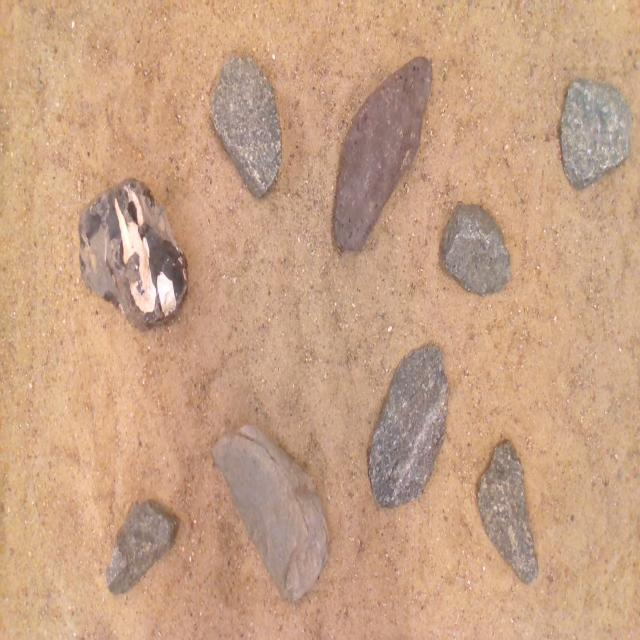rock: (212, 425, 328, 600), (333, 57, 432, 249), (79, 180, 187, 328), (368, 345, 448, 507), (211, 57, 281, 197), (477, 441, 537, 583), (561, 79, 632, 188), (106, 501, 178, 594), (442, 203, 511, 295)
